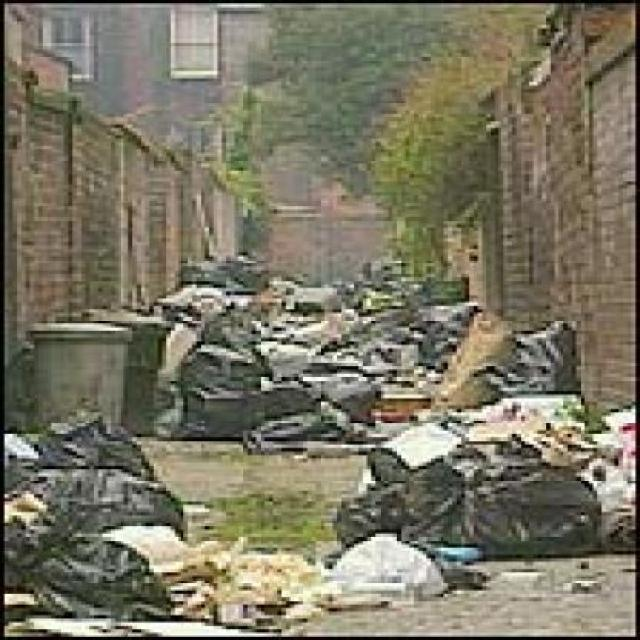garbage: (180, 246, 619, 623), (0, 404, 272, 635)
